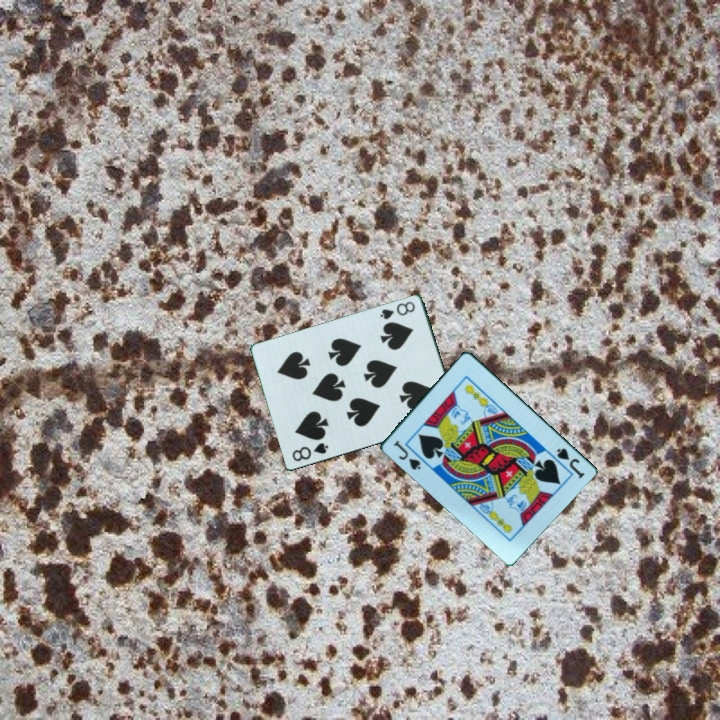8s: (289, 439, 332, 464), (377, 297, 418, 322)
Js: (552, 444, 587, 481), (389, 437, 424, 473)
